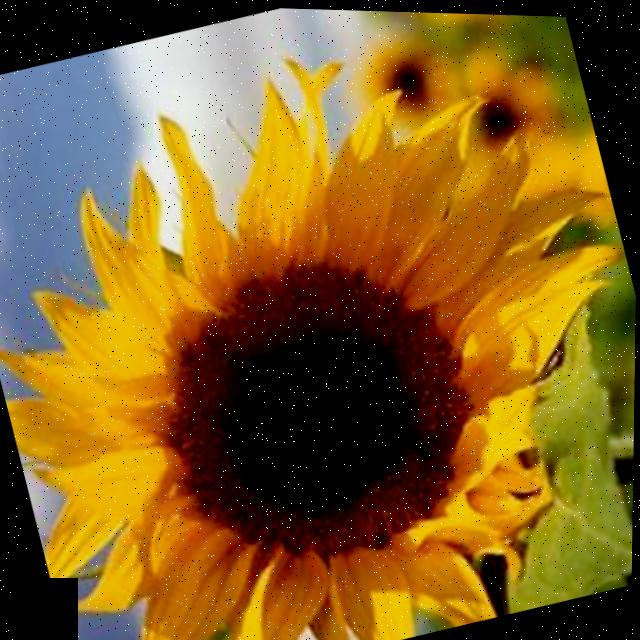sunflower: (0, 27, 640, 640)
